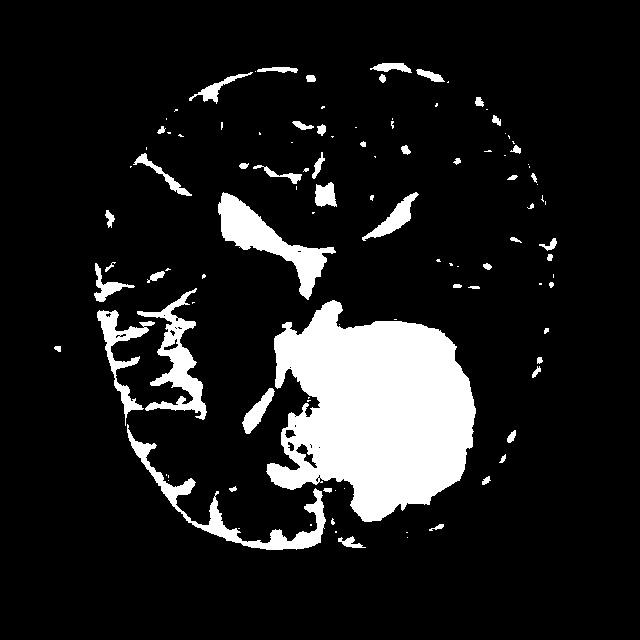Brain-Tumor: (275, 299, 486, 546)
